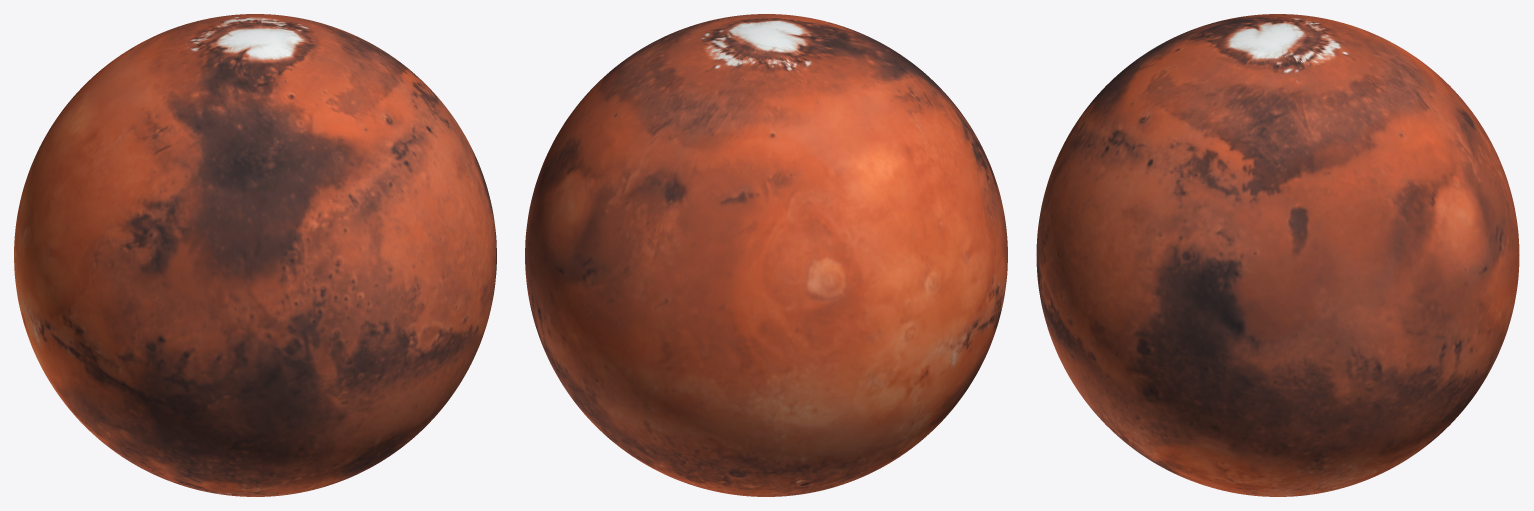
The model's file is mars.gltf.
The picture shows the model from 3 angles, left to right: view 1: azimuth 30°, elevation 25°; view 2: azimuth 150°, elevation 25°; view 3: azimuth 270°, elevation 25°; orthographic projection.
Parts seen in each view (by area): view 1: Earth; view 2: Earth; view 3: Earth.
Boxes of the visible parts, x1=… form: Earth: x1=14, y1=14, x2=496, y2=496; Earth: x1=525, y1=14, x2=1007, y2=496; Earth: x1=1036, y1=14, x2=1519, y2=496.
Size of the model in its own units: 100 by 100 by 100.
1 material, 1 textured.
